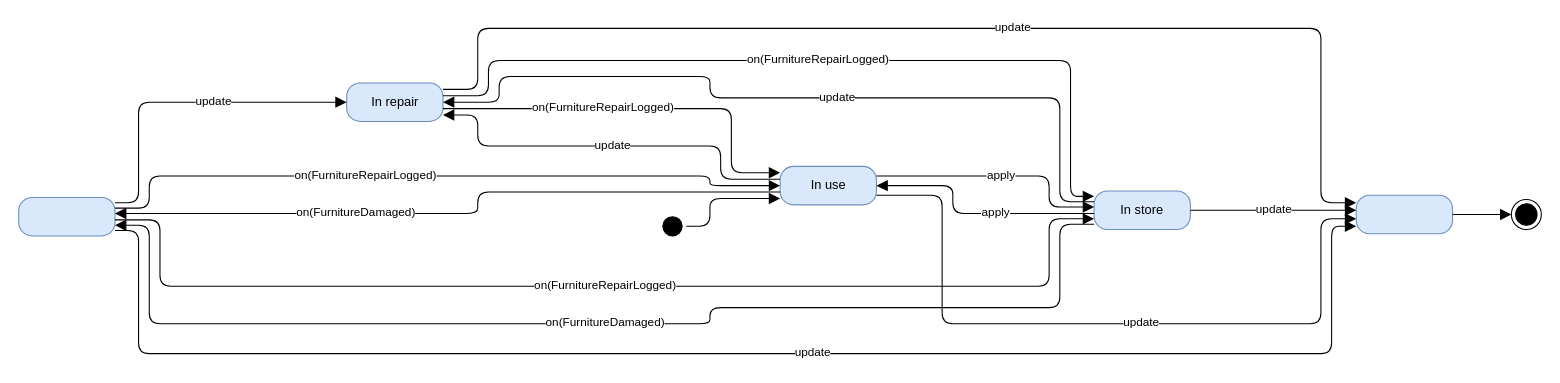
The diagram is 1560 pixels wide and 383 high, and some of its shapes have lost their labels. Each missing label, with the centre of its shape:
"Broken" belongs at pixel 66 216.
"Disposed" belongs at pixel 1404 214.
